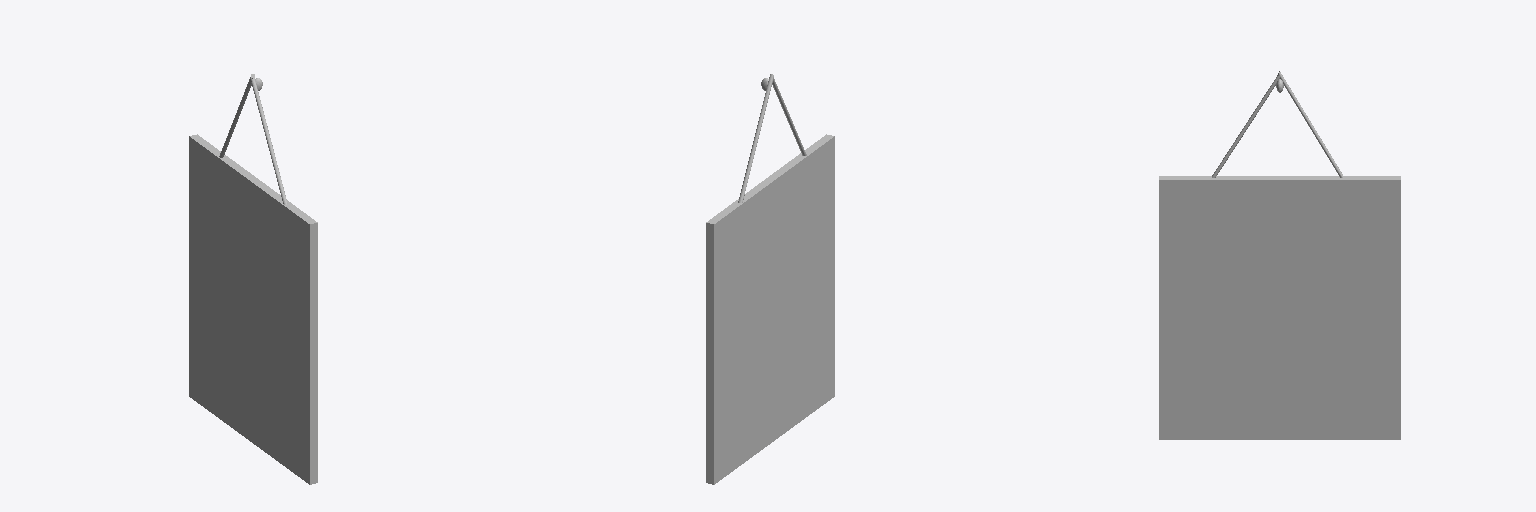
Rendered from Cuadro2.obj.
The picture shows the model from 3 angles: view 1: azimuth 30°, elevation 25°; view 2: azimuth 150°, elevation 25°; view 3: azimuth 270°, elevation 25°; orthographic projection.
Visible parts, largest first — view 1: Plano; view 2: Plano; view 3: Plano.
Part boxes in pixels (x1,y1,x2,y2): Plano: (189, 74, 317, 484); Plano: (706, 74, 834, 484); Plano: (1159, 71, 1400, 439).
Size of the model in its own units: 0.1283 by 3.45 by 2.06.